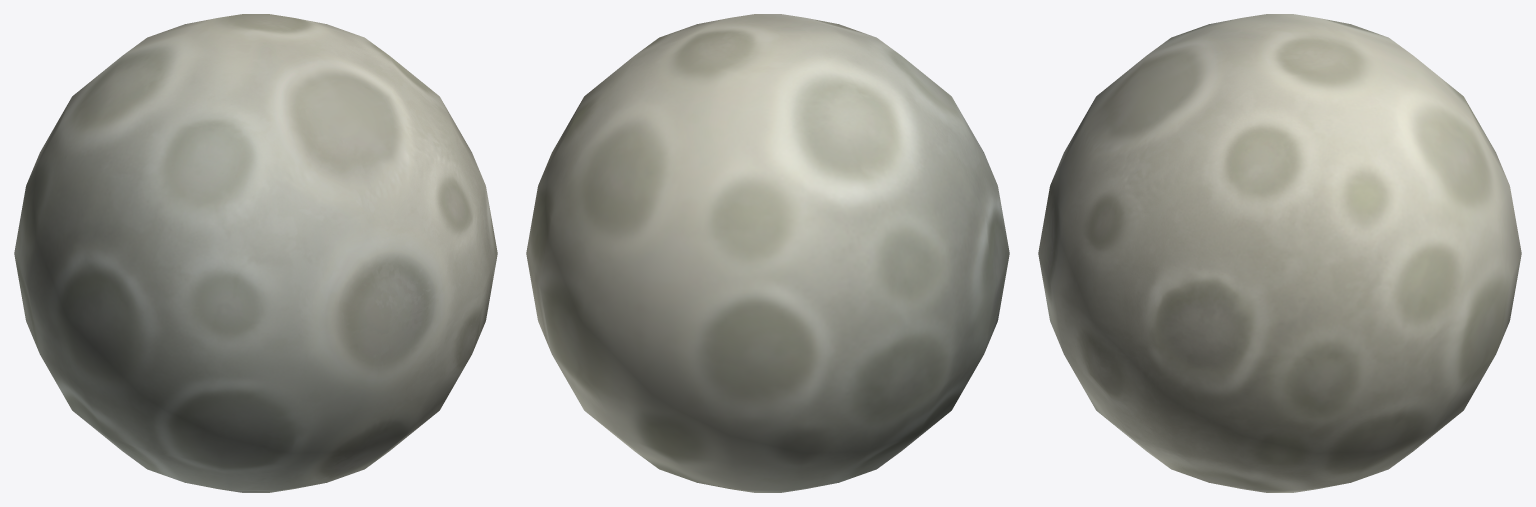
Rendered from Celestial_Moon.fbx.
The picture shows the model from 3 angles, left to right: view 1: azimuth 30°, elevation 25°; view 2: azimuth 150°, elevation 25°; view 3: azimuth 270°, elevation 25°; orthographic projection.
Parts seen in each view (by area): view 1: Celestial_Moon; view 2: Celestial_Moon; view 3: Celestial_Moon.
Boxes of the visible parts, bbox=[...] form: Celestial_Moon: bbox=[14, 14, 497, 492]; Celestial_Moon: bbox=[526, 14, 1009, 492]; Celestial_Moon: bbox=[1038, 14, 1521, 492].
Size of the model in its own units: 217 by 220 by 220.
